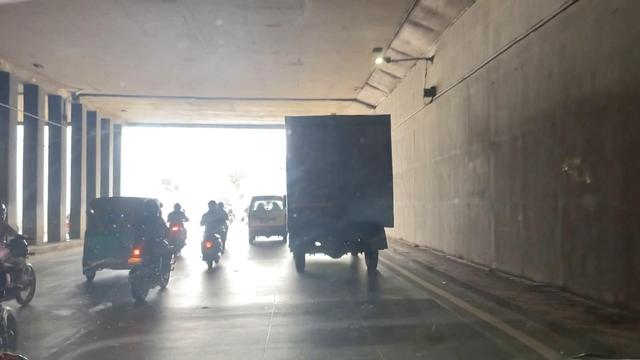HMV: (288, 117, 390, 269)
LMV: (133, 210, 164, 297), (251, 192, 284, 246), (204, 197, 222, 271)
